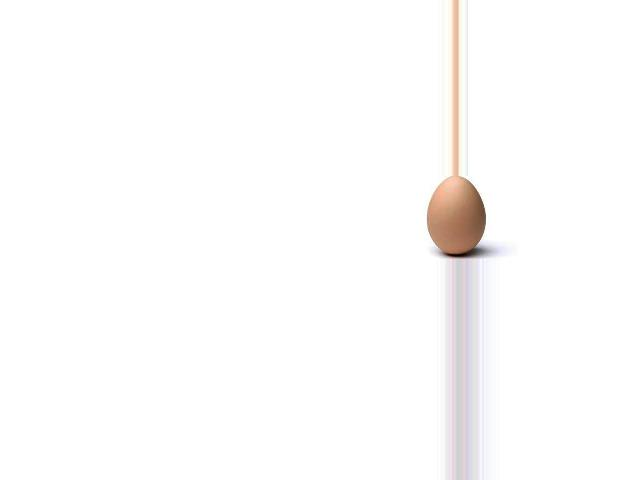egg: (427, 176, 485, 255)
